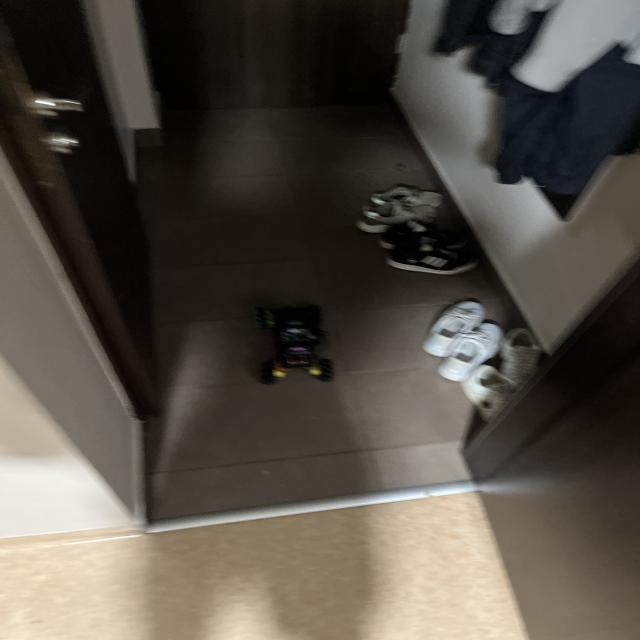robot: (255, 305, 334, 384)
